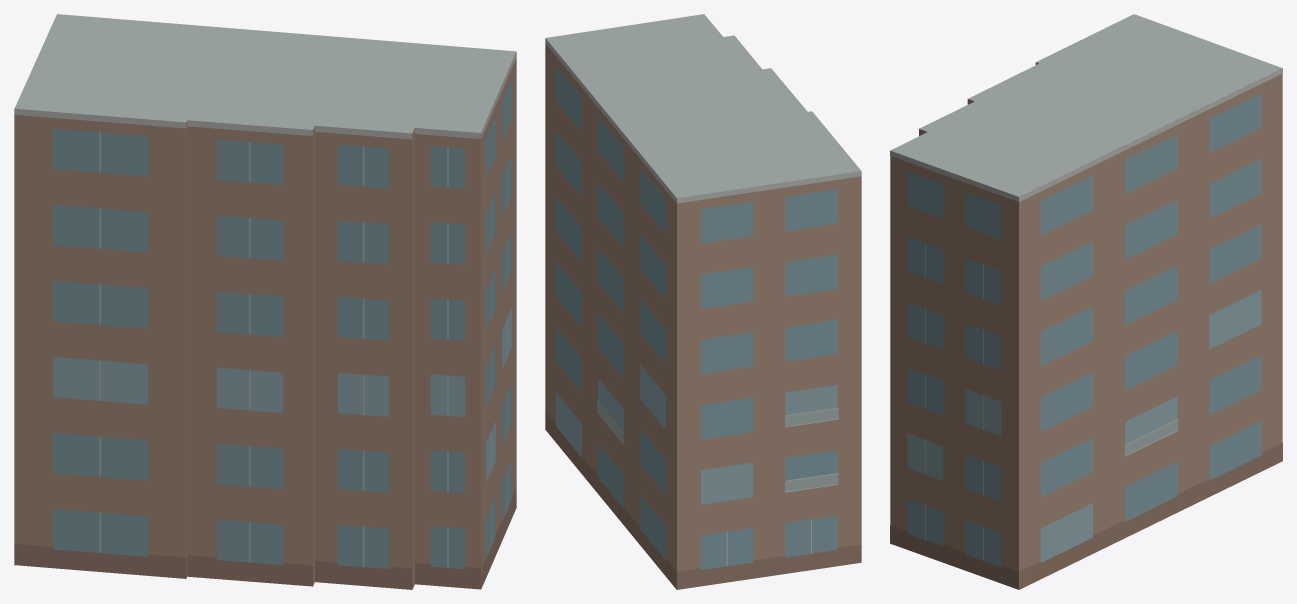
The model's file is survey-upis-32545276.glb.
The picture shows the model from 3 angles, left to right: view 1: azimuth 30°, elevation 25°; view 2: azimuth 150°, elevation 25°; view 3: azimuth 270°, elevation 25°; orthographic projection. The views are drawn at different scales.
Parts seen in each view (by area): view 1: survey-upis-32545276.tmp; view 2: survey-upis-32545276.tmp; view 3: survey-upis-32545276.tmp.
Boxes of the visible parts, left/top/right/bottom form: survey-upis-32545276.tmp: left=14, top=14, right=516, bottom=589; survey-upis-32545276.tmp: left=545, top=14, right=861, bottom=589; survey-upis-32545276.tmp: left=890, top=14, right=1282, bottom=589.
Size of the model in its own units: 18.27 by 18.3 by 16.58.
